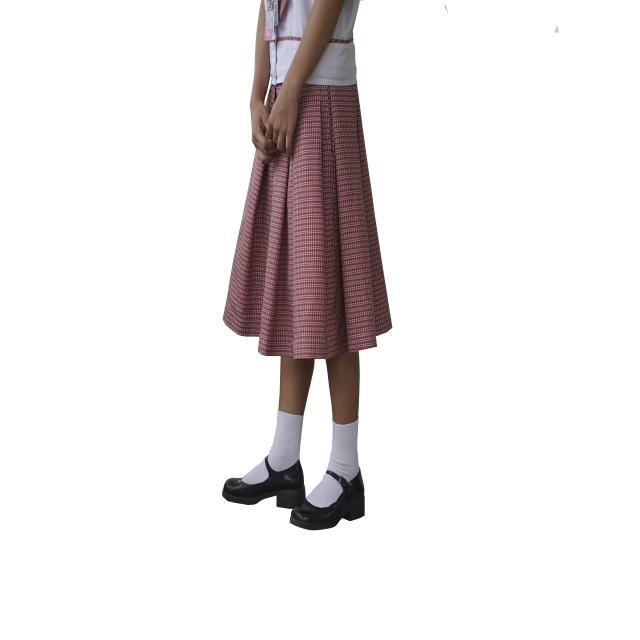pologirl: (307, 0, 358, 85), (270, 0, 314, 84)
shoes: (223, 456, 365, 530)
skirt: (223, 84, 392, 359)
